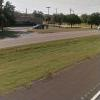Tree: (52, 8, 100, 31)
